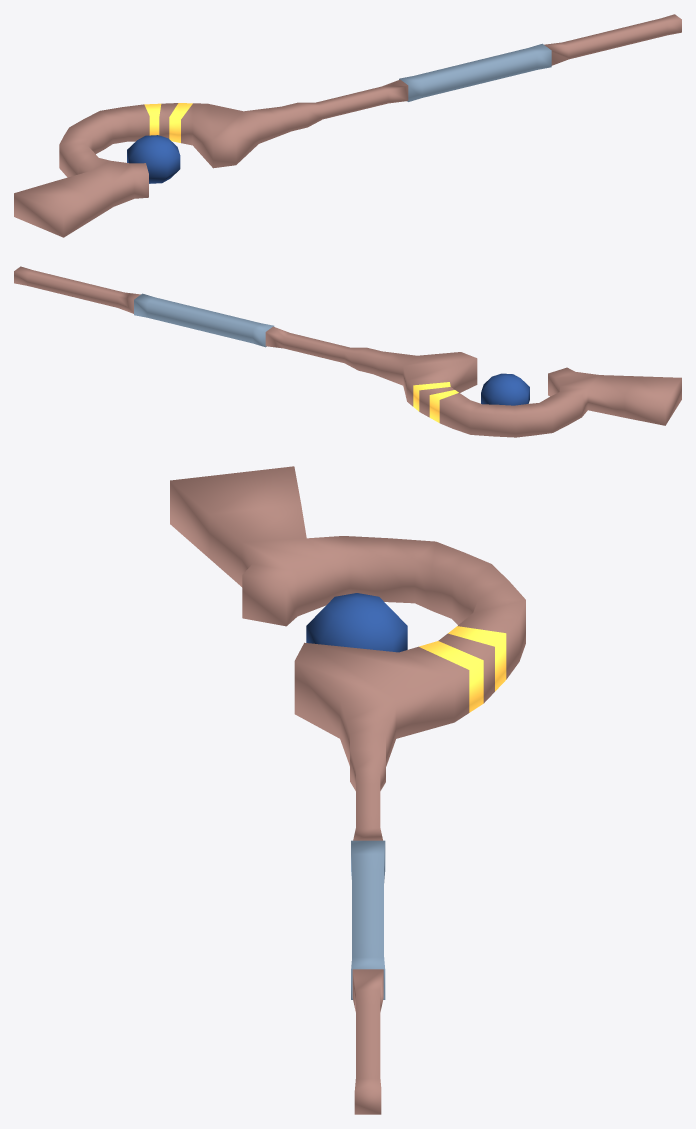
The model's file is ExplosionWitch_weapon.fbx.
3 views of the same model, one above another, from view 1: azimuth 30°, elevation 25°; view 2: azimuth 150°, elevation 25°; view 3: azimuth 270°, elevation 25° (orthographic). The views are drawn at different scales.
Parts seen in each view (by area): view 1: ExplosionStaff; view 2: ExplosionStaff; view 3: ExplosionStaff.
Part boxes in pixels (bbox=[...]): ExplosionStaff: bbox=[14, 14, 681, 237]; ExplosionStaff: bbox=[14, 266, 681, 437]; ExplosionStaff: bbox=[170, 466, 525, 1114].
Size of the model in its own units: 342 by 20.61 by 83.87.
